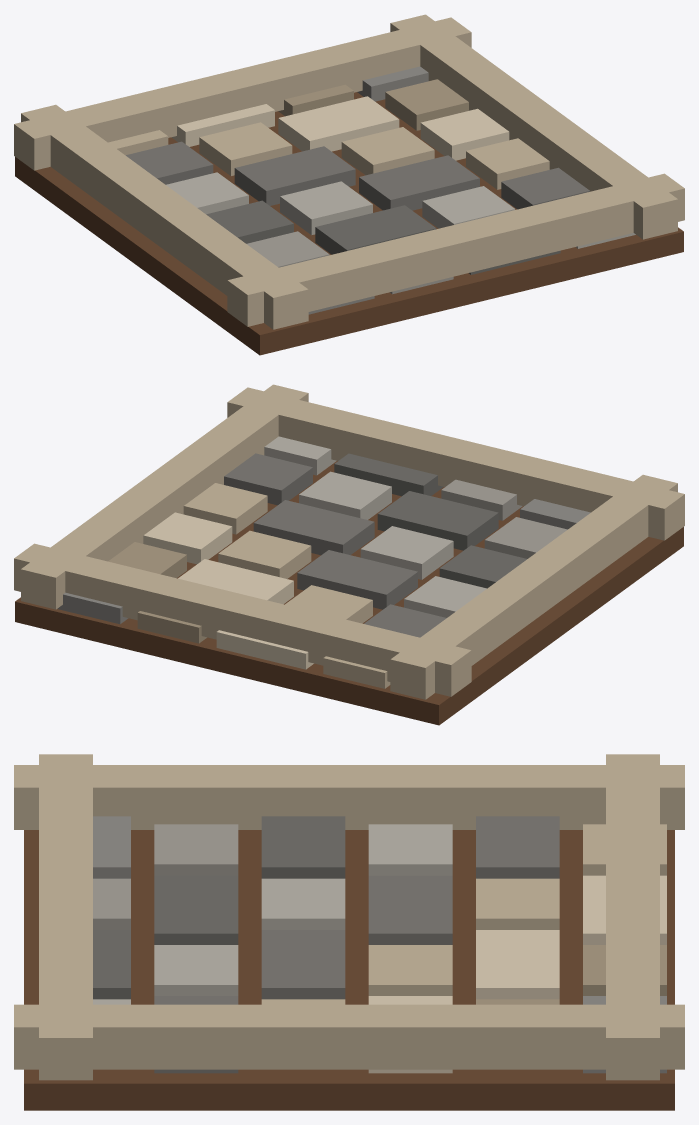
File: vn_path_cobble.glb
3 views of the same model, one above another, from view 1: azimuth 30°, elevation 25°; view 2: azimuth 150°, elevation 25°; view 3: azimuth 270°, elevation 25° (orthographic). The views are drawn at different scales.
Visible parts, largest first — view 1: Bed, EdgePZ_0, EdgeNZ_0, EdgeNX_0, EdgePX_0; view 2: Bed, EdgePZ_0, EdgeNZ_0, EdgeNX_0, EdgePX_0; view 3: Bed, EdgePX_0, EdgeNX_0, EdgeNZ_0, EdgePZ_0.
Part boxes in pixels (x1,y1,x2,y2): Bed: (15, 66, 683, 355); EdgePZ_0: (227, 173, 684, 326); EdgeNZ_0: (14, 17, 471, 170); EdgeNX_0: (21, 104, 308, 329); EdgePX_0: (390, 14, 677, 239); Bed: (15, 436, 683, 725); EdgePZ_0: (227, 387, 684, 540); EdgeNZ_0: (14, 543, 471, 696); EdgeNX_0: (390, 474, 677, 699); EdgePX_0: (21, 384, 308, 609); Bed: (24, 816, 674, 1110); EdgePX_0: (14, 1004, 684, 1069); EdgeNX_0: (14, 765, 684, 829); EdgeNZ_0: (606, 754, 659, 1080); EdgePZ_0: (39, 754, 92, 1080).
Size of the model in its own units: 0.72 by 0.091 by 0.72.
